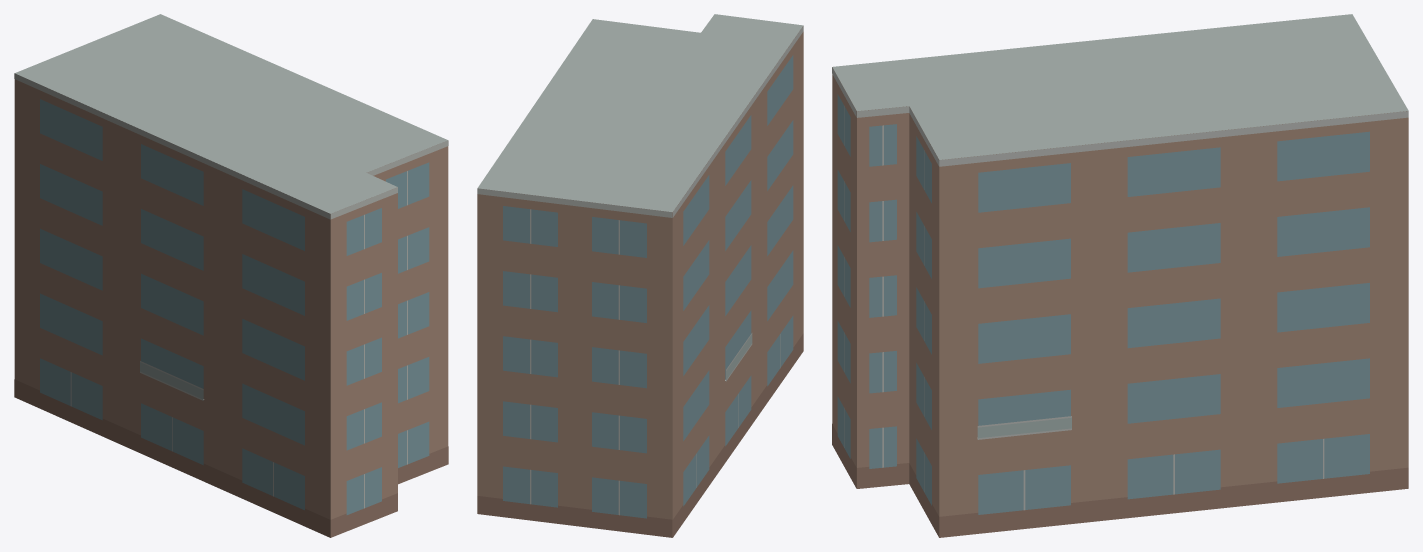
Rendered from survey-upis-33025140.glb.
The picture shows the model from 3 angles, left to right: view 1: azimuth 30°, elevation 25°; view 2: azimuth 150°, elevation 25°; view 3: azimuth 270°, elevation 25°; orthographic projection. The views are drawn at different scales.
Visible parts, largest first — view 1: survey-upis-33025140.tmp; view 2: survey-upis-33025140.tmp; view 3: survey-upis-33025140.tmp.
Boxes of the visible parts, left/top/right/bottom form: survey-upis-33025140.tmp: left=14, top=14, right=448, bottom=537; survey-upis-33025140.tmp: left=477, top=14, right=803, bottom=537; survey-upis-33025140.tmp: left=832, top=14, right=1408, bottom=537.
Size of the model in its own units: 11.37 by 13.7 by 18.96.
